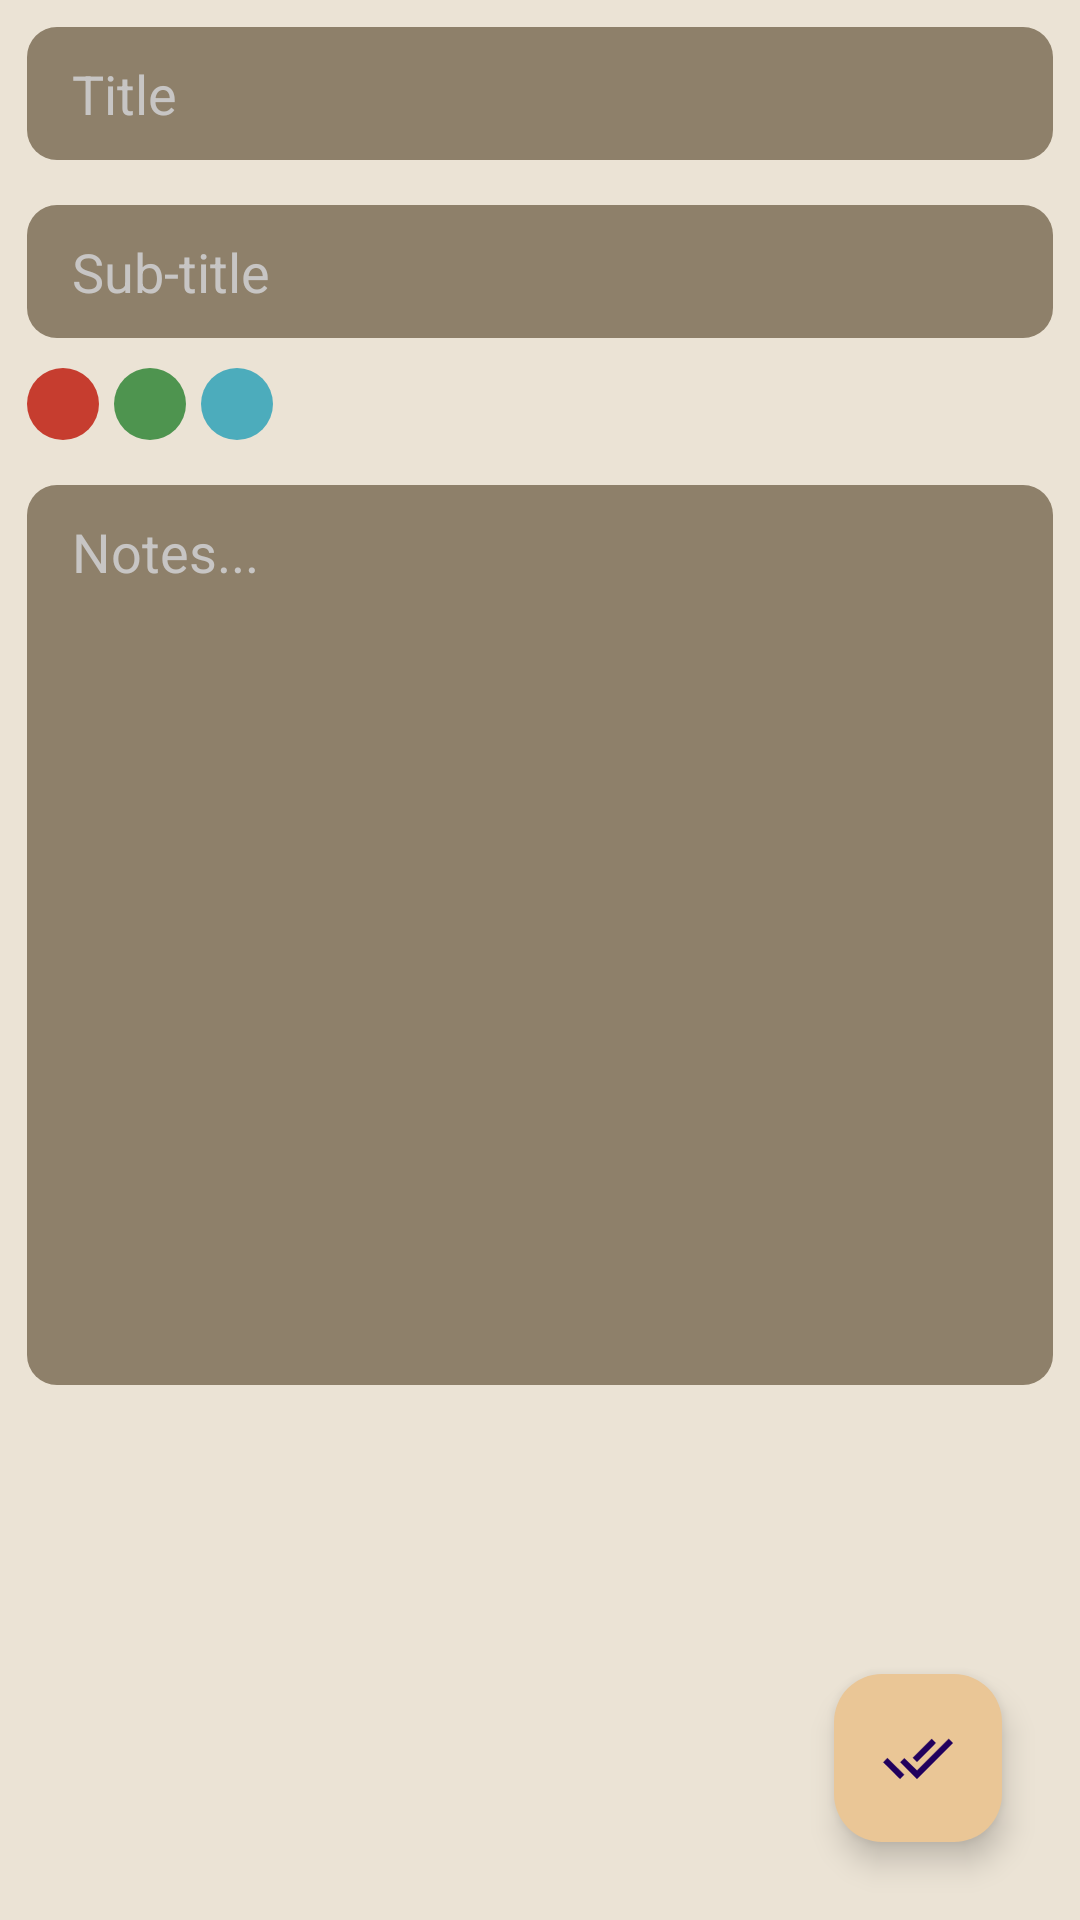

Icon bounding boxes for this 1080px x 1920px phone screenshot, format (x1, y1, x2, y2):
done: (834, 1674, 1002, 1842)
